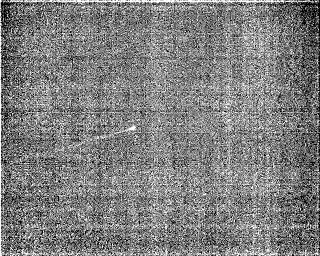AIRPLANE: (52, 123, 138, 152)
